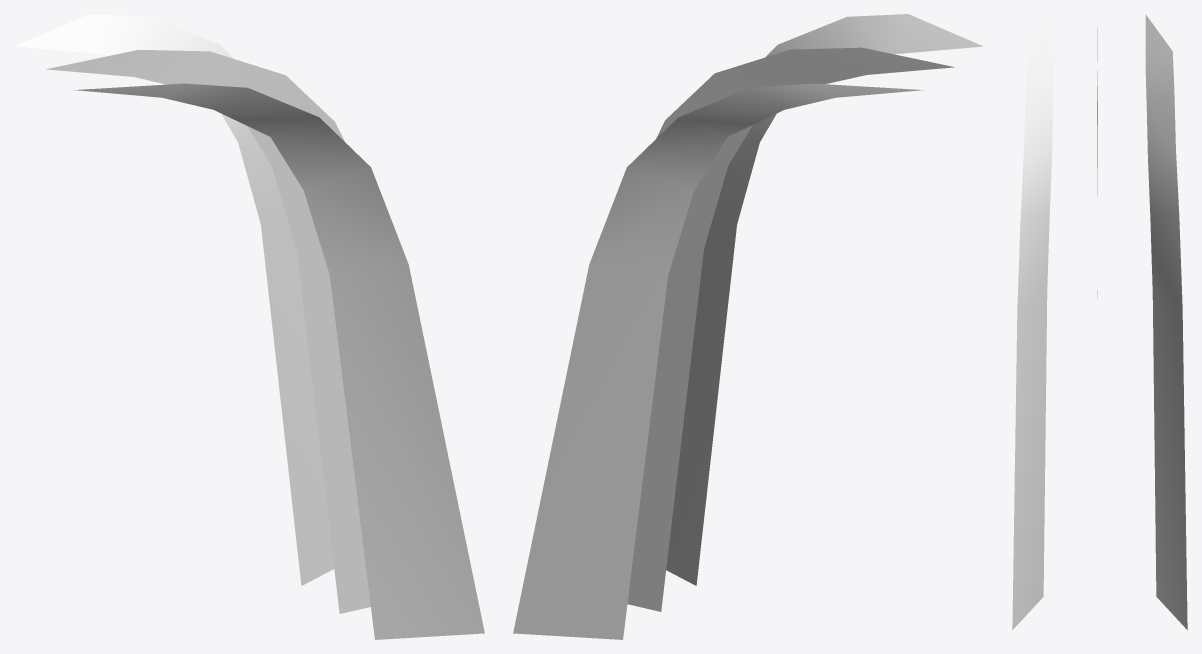
Rendered from oa_ho_waterfall01_05.glb.
3 renders of one model, left to right at view 1: azimuth 30°, elevation 25°; view 2: azimuth 150°, elevation 25°; view 3: azimuth 270°, elevation 25°, orthographic. The views are drawn at different scales.
Visible parts, largest first — view 1: oa_ho_waterfall01_05; view 2: oa_ho_waterfall01_05; view 3: oa_ho_waterfall01_05.
Boxes of the visible parts, left/top/right/bottom form: oa_ho_waterfall01_05: left=14, top=14, right=484, bottom=639; oa_ho_waterfall01_05: left=513, top=14, right=983, bottom=639; oa_ho_waterfall01_05: left=1012, top=14, right=1187, bottom=629.
Size of the model in its own units: 26.67 by 38.68 by 12.97.
1 material, 1 textured.
